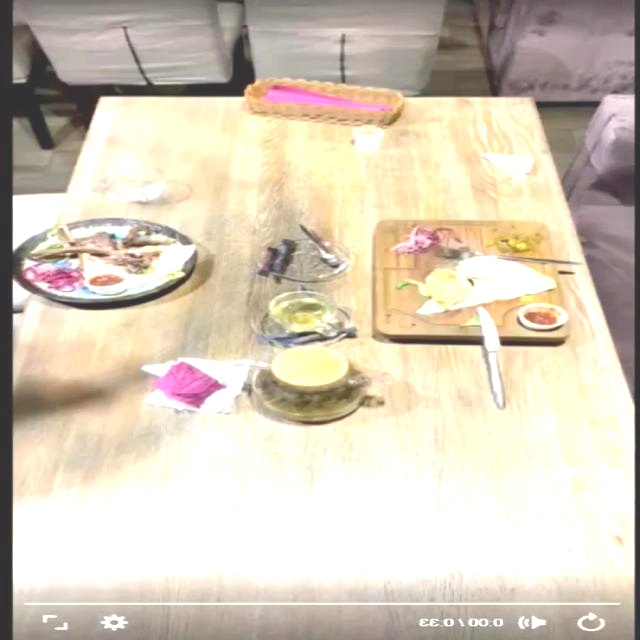meat: (367, 212, 577, 352), (0, 194, 194, 322)
tea: (234, 353, 378, 423)
